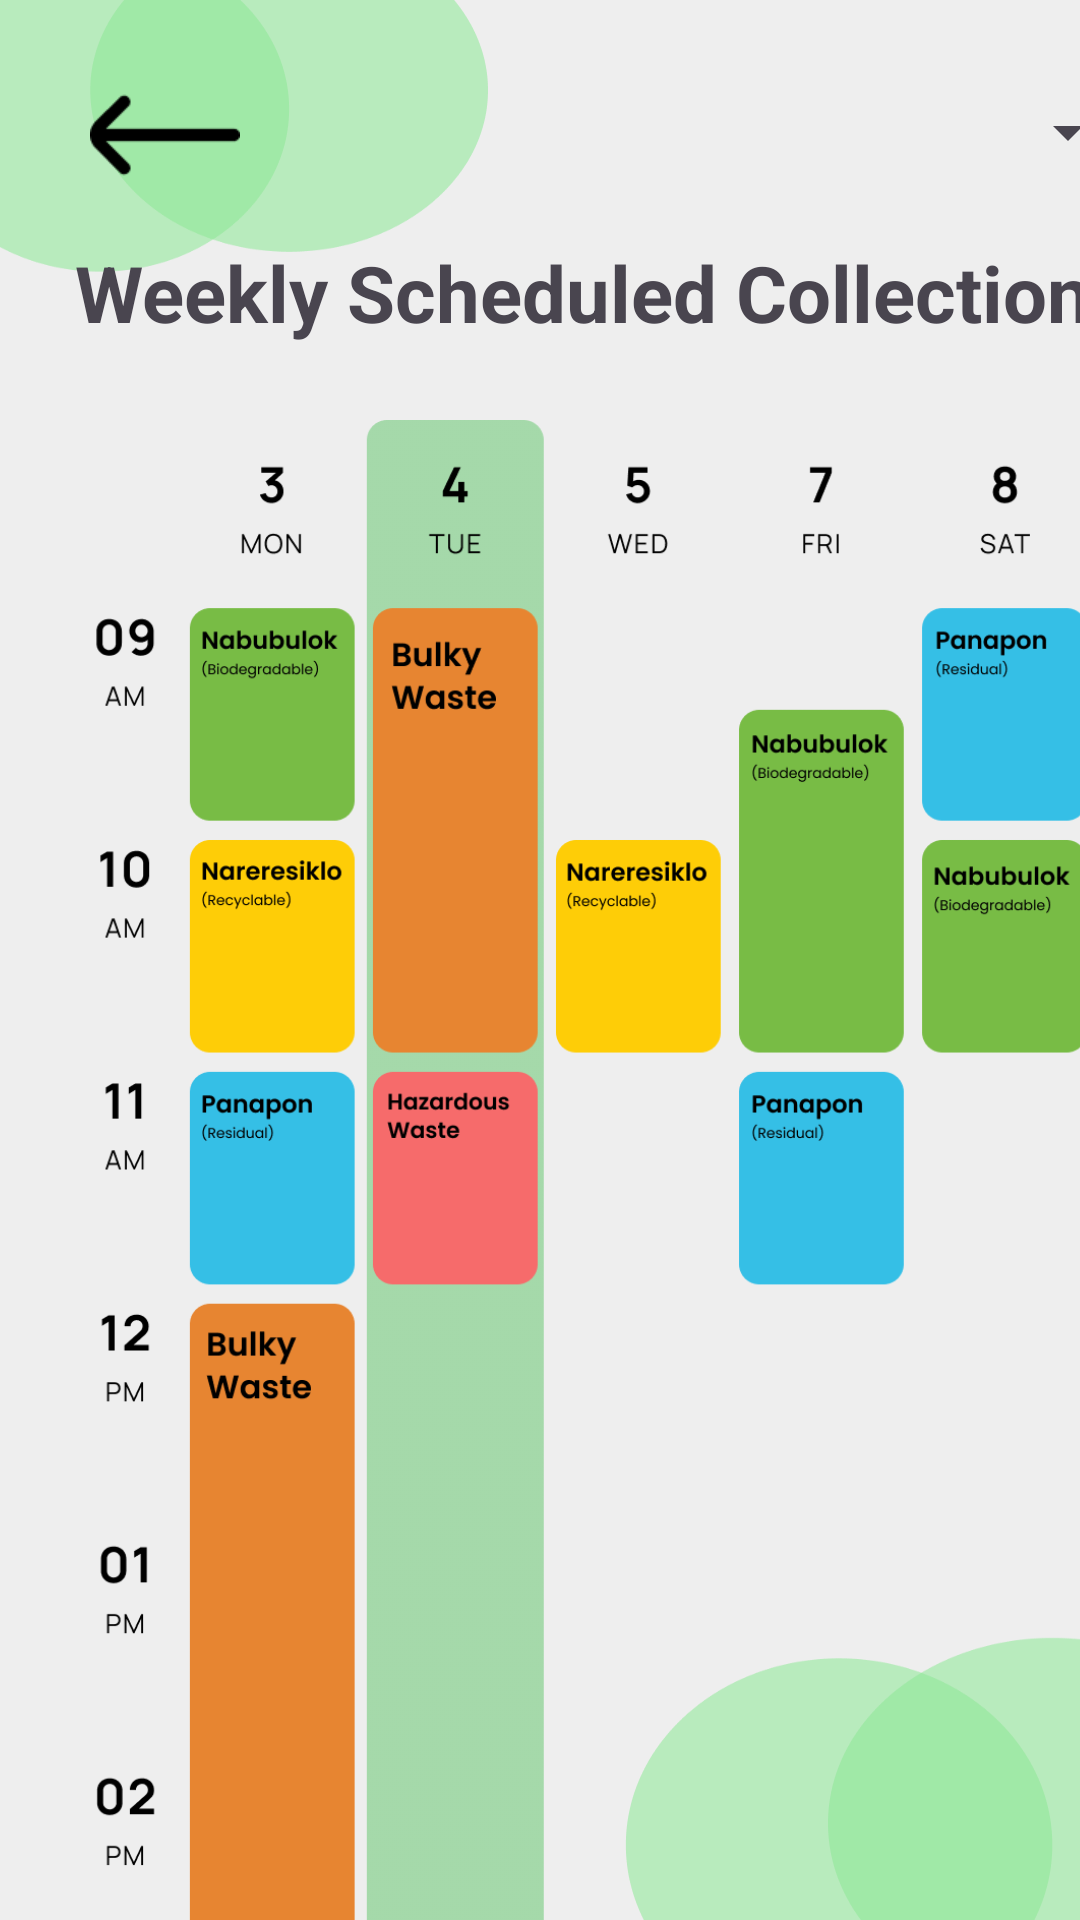

Icons on this 1080 x 1920 Android screen, each with the point to tap as point (x, y):
Back: point (165, 135)
